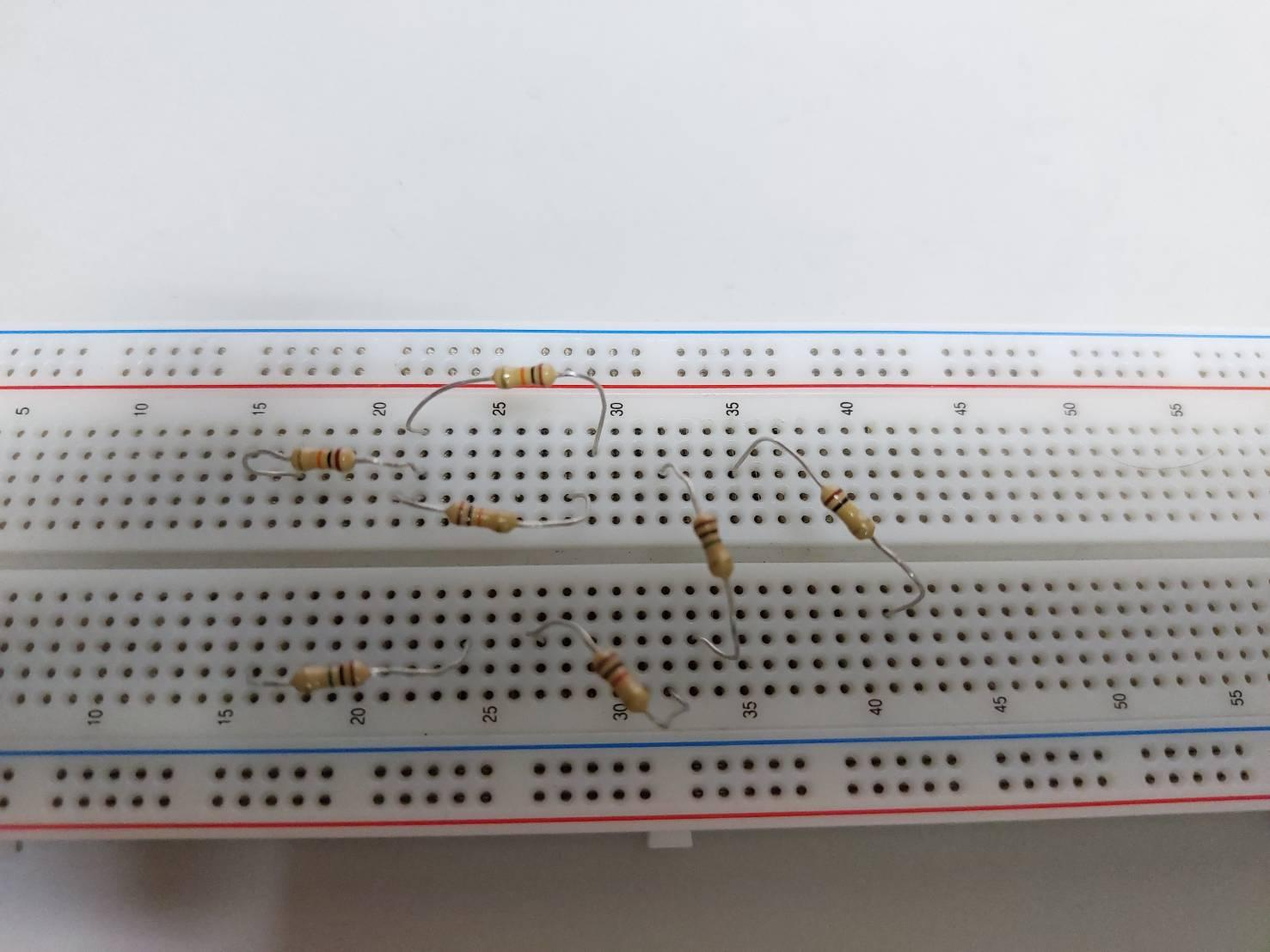resistor: (590, 645, 651, 714), (693, 511, 736, 578), (823, 484, 875, 539), (290, 660, 371, 694), (449, 502, 520, 536), (493, 361, 558, 388), (292, 447, 356, 474)
